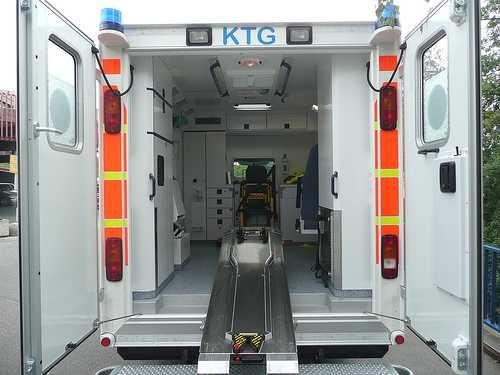car: (6, 0, 490, 374)
